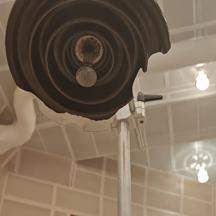insulator: (0, 0, 181, 133)
